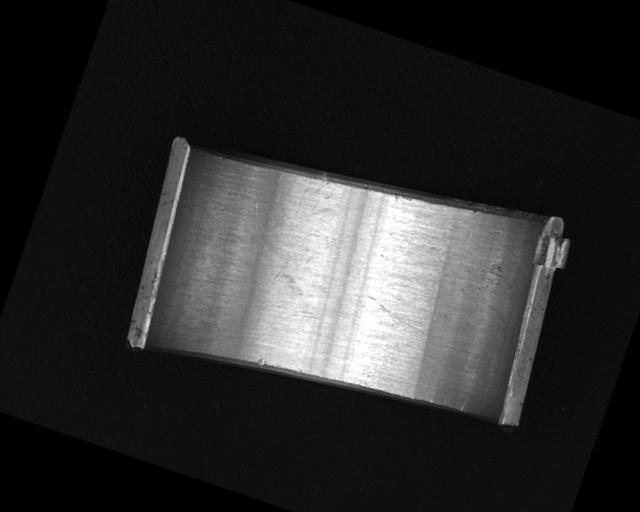blot: (250, 237, 318, 299)
bruise: (255, 356, 267, 367)
nick: (458, 397, 469, 413)
